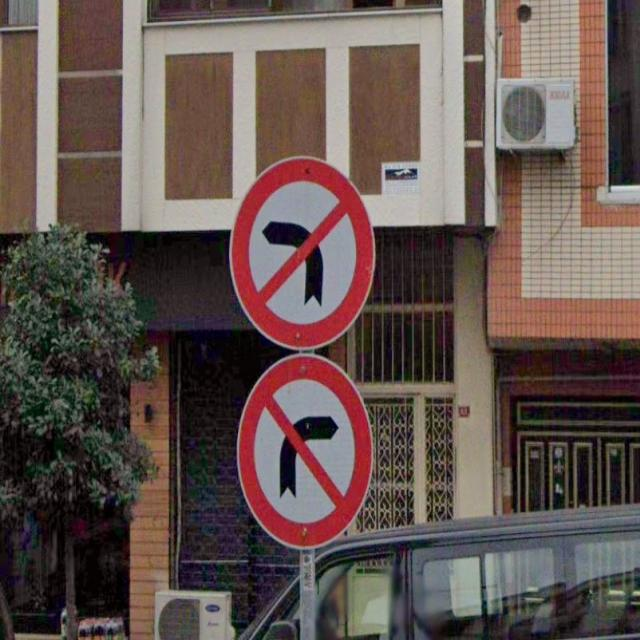sagadonulmez: (234, 353, 374, 552)
soladonulmez: (229, 156, 377, 350)
